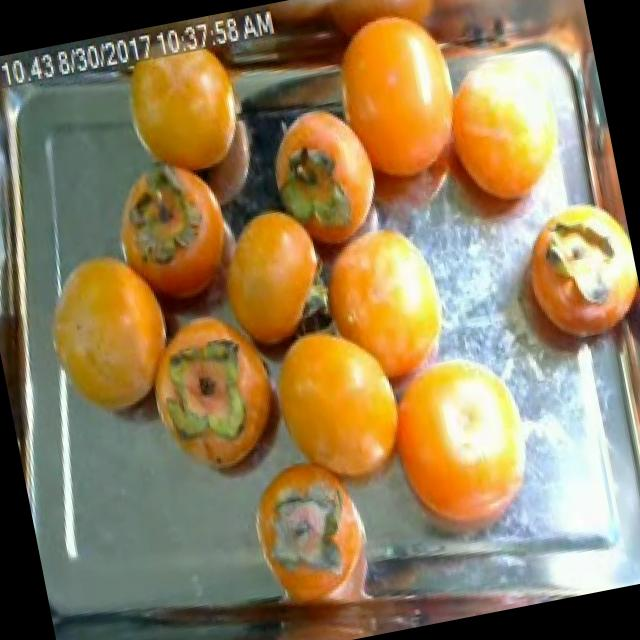Fruit: (289, 193, 478, 417), (21, 226, 192, 456), (190, 180, 344, 382), (102, 22, 257, 208), (250, 81, 400, 267)
